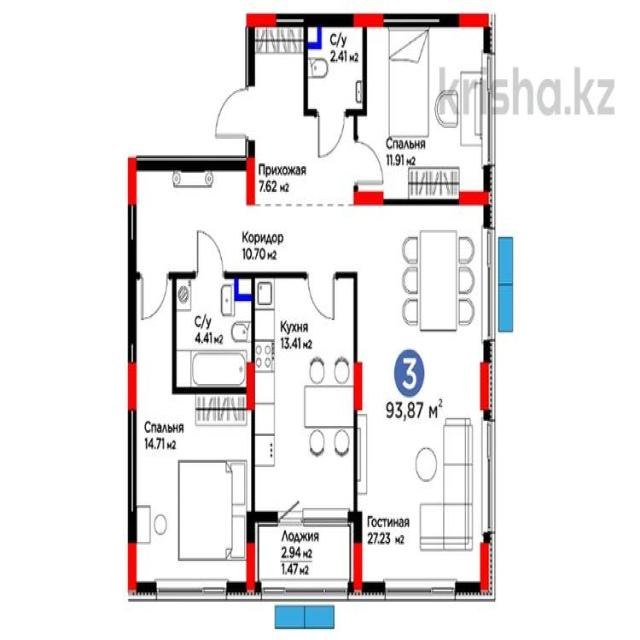balcony: (252, 522, 356, 588)
bathroom: (173, 276, 253, 392), (306, 25, 366, 115)
hallway: (135, 200, 356, 276), (248, 28, 307, 200)
kitchen: (252, 276, 356, 517)
living_room: (356, 204, 490, 595), (132, 276, 253, 591), (362, 19, 486, 208)
